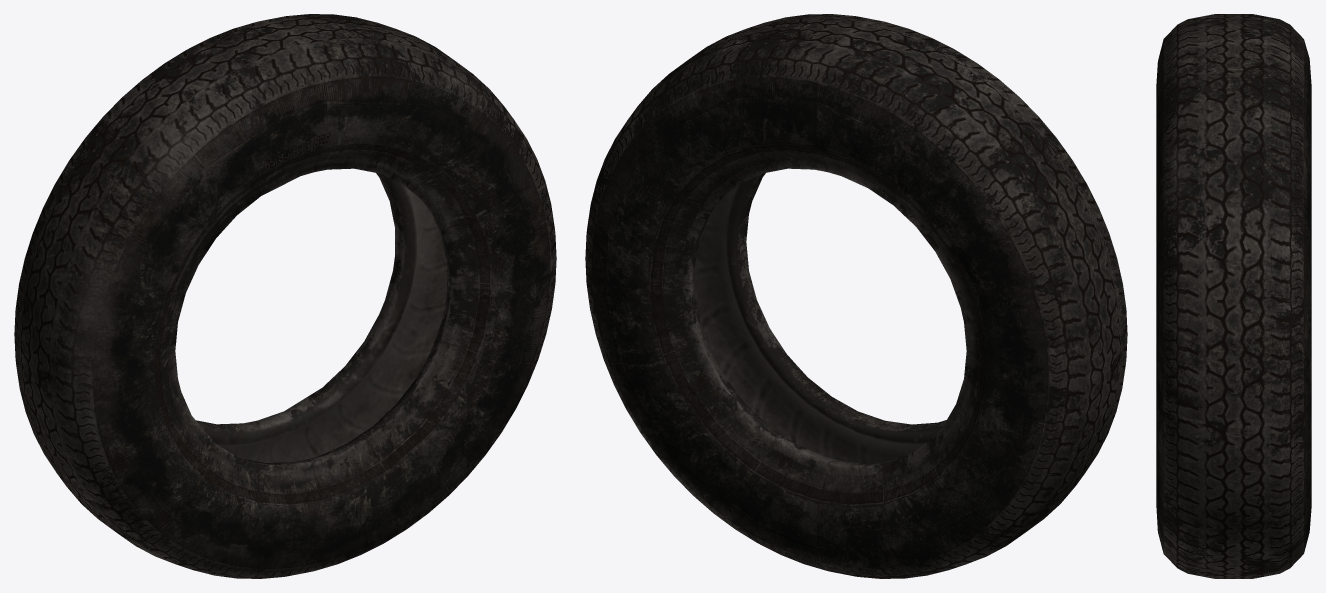
The model's file is old_tyre.glb.
The picture shows the model from 3 angles, left to right: view 1: azimuth 30°, elevation 25°; view 2: azimuth 150°, elevation 25°; view 3: azimuth 270°, elevation 25°; orthographic projection. The views are drawn at different scales.
Visible parts, largest first — view 1: old_tyre; view 2: old_tyre; view 3: old_tyre.
Part boxes in pixels (<box>): old_tyre: <box>14,14,556,578</box>; old_tyre: <box>585,14,1127,578</box>; old_tyre: <box>1156,14,1311,578</box>.
Bounding box in the file's own units: 0.6 × 0.6 × 0.165.
1 material, 1 textured.
